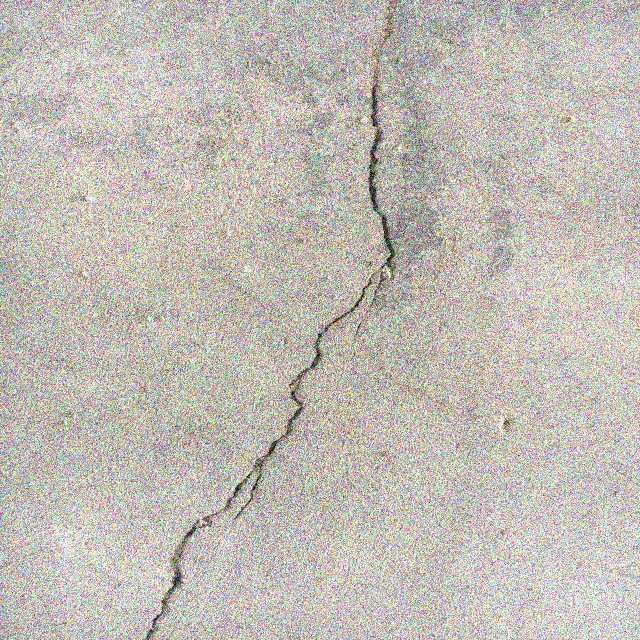SurfaceCrack: (114, 1, 432, 640)
